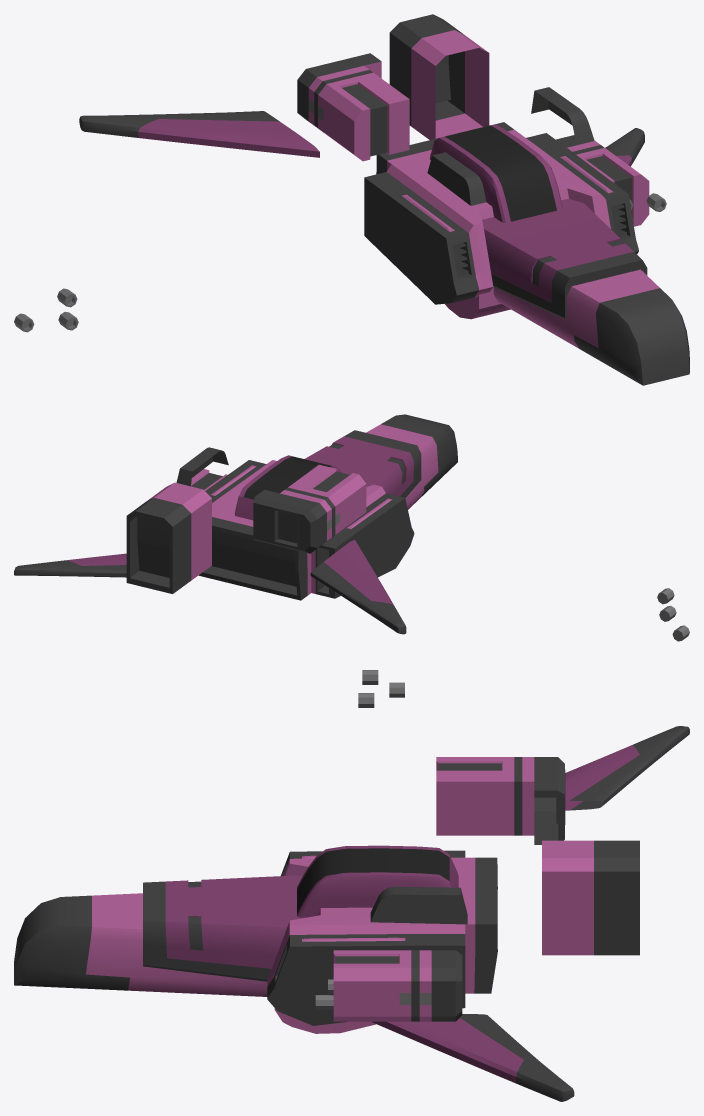
The model's file is CrashShip.fbx.
3 renders of one model, top to bottom at view 1: azimuth 30°, elevation 25°; view 2: azimuth 150°, elevation 25°; view 3: azimuth 270°, elevation 25°, orthographic. The views are drawn at different scales.
Visible parts, largest first — view 1: Spaceship_FernandoTheFlamingo, Spaceship_FernandoTheFlamingo.009, Spaceship_FernandoTheFlamingo.008, Spaceship_FernandoTheFlamingo.002, Spaceship_FernandoTheFlamingo.007, Spaceship_FernandoTheFlamingo.001; view 2: Spaceship_FernandoTheFlamingo, Spaceship_FernandoTheFlamingo.009, Spaceship_FernandoTheFlamingo.008, Spaceship_FernandoTheFlamingo.002, Spaceship_FernandoTheFlamingo.001, Spaceship_FernandoTheFlamingo.007; view 3: Spaceship_FernandoTheFlamingo, Spaceship_FernandoTheFlamingo.009, Spaceship_FernandoTheFlamingo.008, Spaceship_FernandoTheFlamingo.001, Spaceship_FernandoTheFlamingo.002, Spaceship_FernandoTheFlamingo.007.
Part boxes in pixels (left/top/right/bottom): Spaceship_FernandoTheFlamingo: left=364, top=122, right=689, bottom=385; Spaceship_FernandoTheFlamingo.009: left=389, top=14, right=489, bottom=139; Spaceship_FernandoTheFlamingo.008: left=297, top=53, right=409, bottom=161; Spaceship_FernandoTheFlamingo.002: left=79, top=111, right=319, bottom=157; Spaceship_FernandoTheFlamingo.007: left=531, top=87, right=594, bottom=144; Spaceship_FernandoTheFlamingo.001: left=605, top=128, right=644, bottom=166; Spaceship_FernandoTheFlamingo: left=191, top=414, right=457, bottom=600; Spaceship_FernandoTheFlamingo.009: left=126, top=482, right=211, bottom=593; Spaceship_FernandoTheFlamingo.008: left=253, top=464, right=366, bottom=553; Spaceship_FernandoTheFlamingo.002: left=310, top=540, right=406, bottom=634; Spaceship_FernandoTheFlamingo.001: left=14, top=553, right=126, bottom=577; Spaceship_FernandoTheFlamingo.007: left=176, top=447, right=228, bottom=486; Spaceship_FernandoTheFlamingo: left=14, top=845, right=497, bottom=1033; Spaceship_FernandoTheFlamingo.009: left=542, top=840, right=639, bottom=955; Spaceship_FernandoTheFlamingo.008: left=436, top=757, right=565, bottom=844; Spaceship_FernandoTheFlamingo.001: left=372, top=1014, right=574, bottom=1101; Spaceship_FernandoTheFlamingo.002: left=565, top=726, right=689, bottom=810; Spaceship_FernandoTheFlamingo.007: left=370, top=886, right=467, bottom=924.
Size of the model in its own units: 1428 by 340 by 1110.
Materials: 1 (1 with a texture image).
